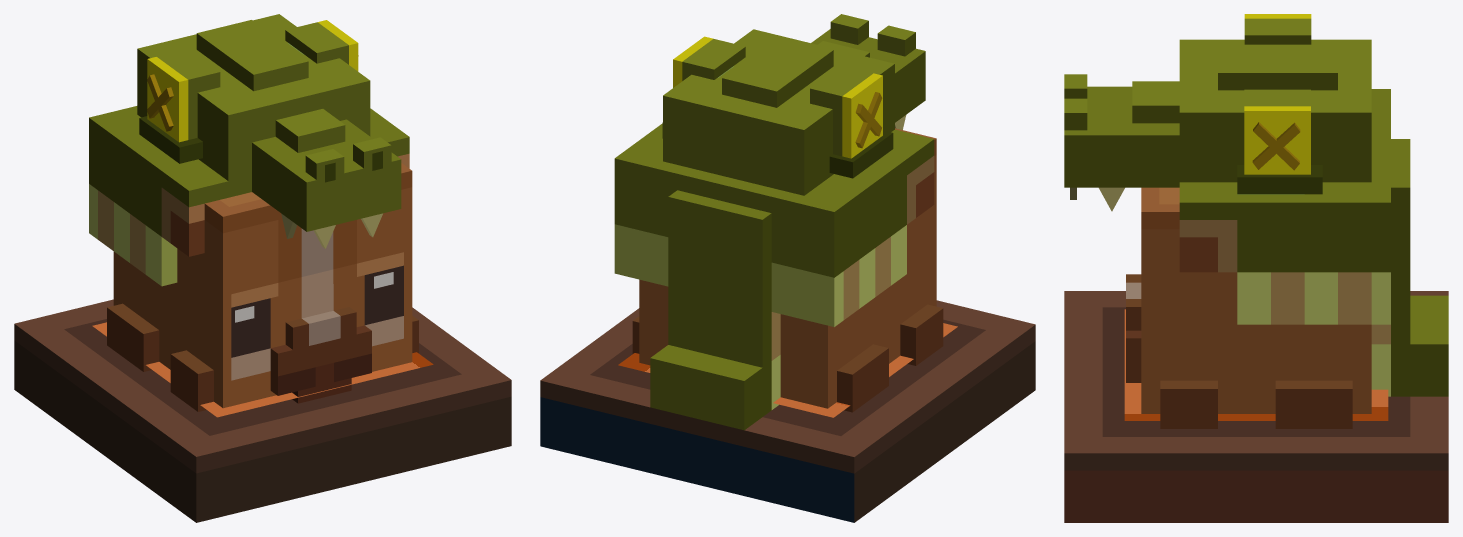
Rendered from Tower_Wombat_L4.fbx.
3 views of the same model, side by side, from view 1: azimuth 30°, elevation 25°; view 2: azimuth 150°, elevation 25°; view 3: azimuth 270°, elevation 25° (orthographic). The views are drawn at different scales.
Visible parts, largest first — view 1: CrocHead, Base, Body, Shadow; view 2: CrocHead, Base, Body, Shadow; view 3: CrocHead, Base, Body, Shadow.
Part boxes in pixels (bbox=[...]): CrocHead: bbox=[89, 14, 409, 286]; Base: bbox=[14, 299, 511, 522]; Body: bbox=[107, 153, 418, 411]; Shadow: bbox=[92, 322, 433, 417]; CrocHead: bbox=[614, 14, 934, 430]; Base: bbox=[540, 300, 1035, 522]; Body: bbox=[632, 128, 943, 412]; Shadow: bbox=[618, 323, 957, 417]; CrocHead: bbox=[1064, 14, 1448, 396]; Base: bbox=[1064, 291, 1448, 522]; Body: bbox=[1126, 187, 1371, 428]; Shadow: bbox=[1124, 309, 1388, 420].
Bounding box in the file's own units: 100 × 119 × 100.
